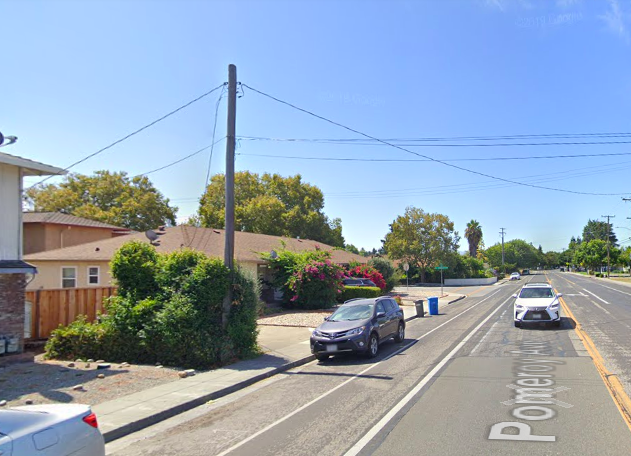utility_pole: (210, 52, 250, 143)
